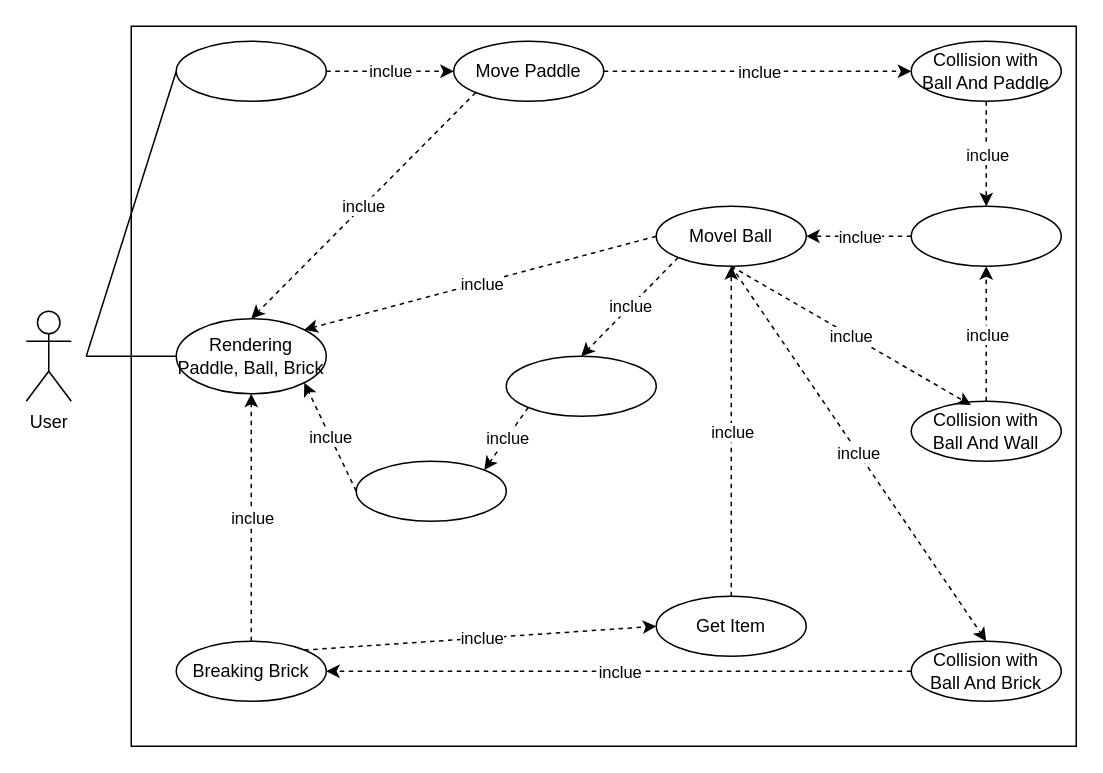
This 1103x773 diagram has some shape labels left out. The centre of each missing label's shape, as x and y in pixels:
"Change Ball Direction" goes at point (985, 235).
"Detect Ball in Reset Zone" goes at point (580, 385).
"Input Pipeline for Paddle" goes at point (250, 70).
"New Game" goes at point (430, 490).
